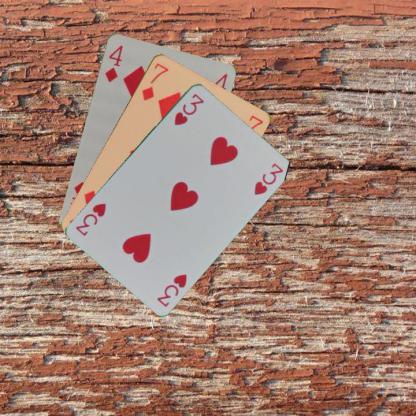3h: (171, 90, 205, 127), (154, 271, 188, 308)
4d: (102, 42, 124, 83)
7d: (139, 60, 170, 102)
